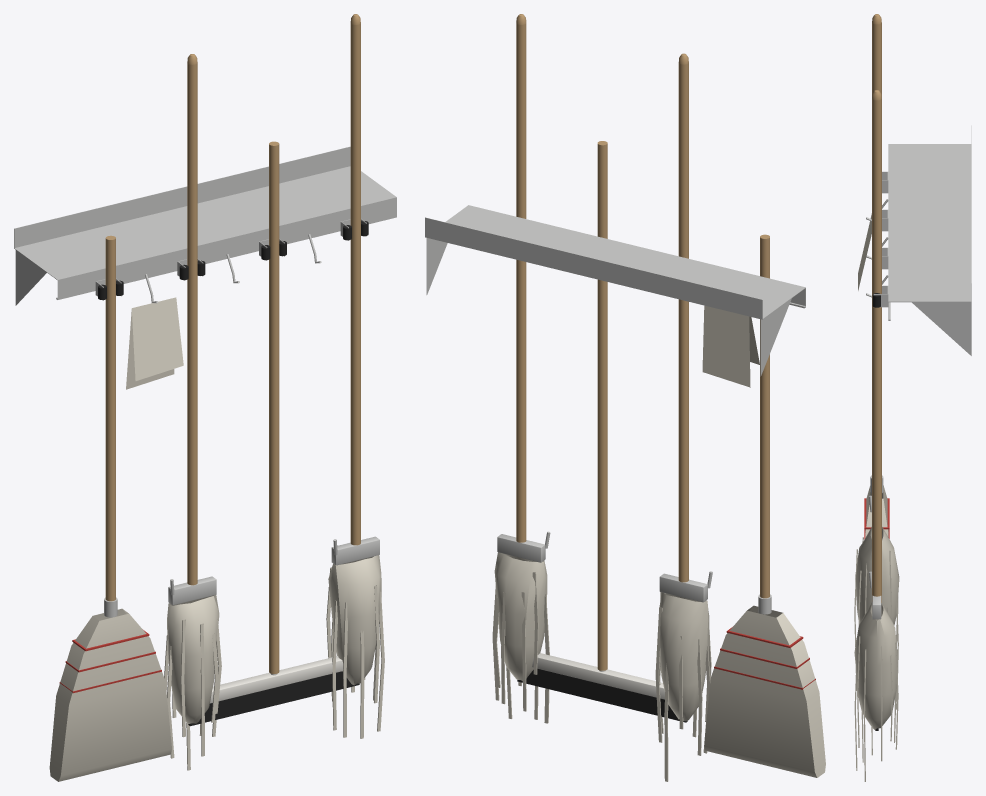
The model's file is Kit_MopRack.fbx.
3 renders of one model, left to right at view 1: azimuth 30°, elevation 25°; view 2: azimuth 150°, elevation 25°; view 3: azimuth 270°, elevation 25°, orthographic. The views are drawn at different scales.
Parts seen in each view (by area): view 1: Kit_MopRack_LOD0; view 2: Kit_MopRack_LOD0; view 3: Kit_MopRack_LOD0.
Part boxes in pixels (<box>): Kit_MopRack_LOD0: <box>14,14,396,781</box>; Kit_MopRack_LOD0: <box>425,14,825,781</box>; Kit_MopRack_LOD0: <box>854,14,971,781</box>.
Size of what is drawn, in the model's own units: 0.939 by 1.87 by 0.2874.
